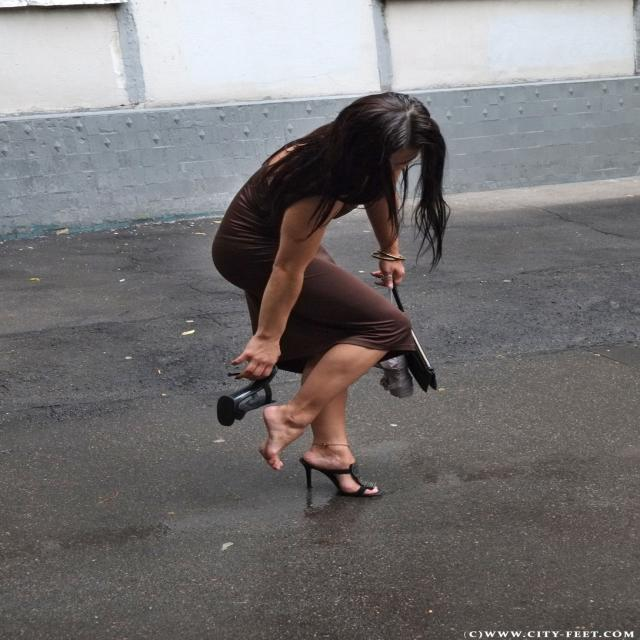Barefoots: (258, 406, 288, 470)
